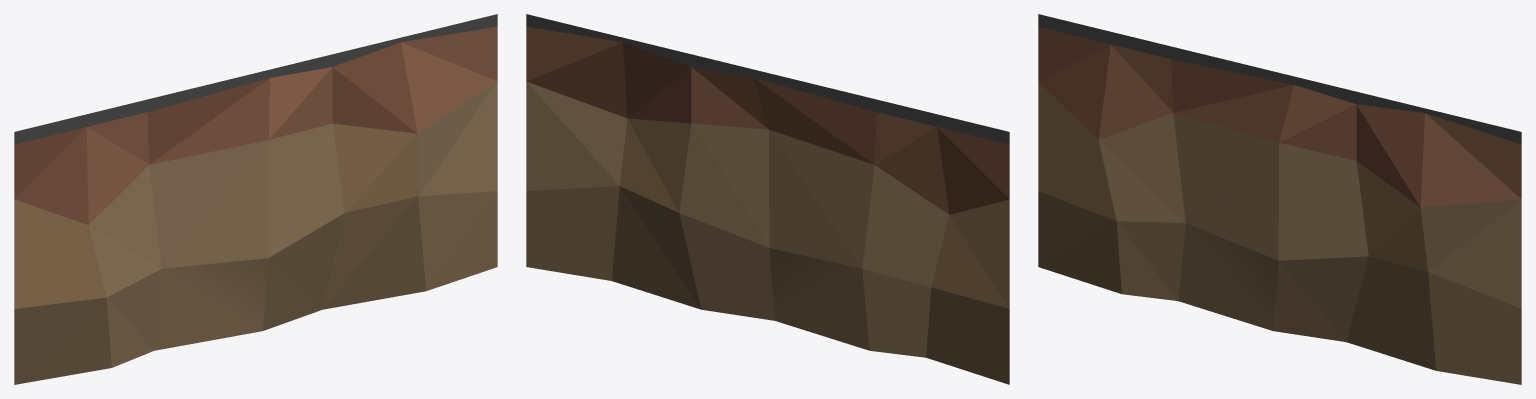
File: Thick_12_Asphalt.fbx
3 renders of one model, left to right at view 1: azimuth 30°, elevation 25°; view 2: azimuth 150°, elevation 25°; view 3: azimuth 330°, elevation 25°, orthographic.
Parts seen in each view (by area): view 1: Thick_12_Asphalt; view 2: Thick_12_Asphalt; view 3: Thick_12_Asphalt.
Part boxes in pixels (x1=…): Thick_12_Asphalt: x1=14, y1=14, x2=497, y2=384; Thick_12_Asphalt: x1=526, y1=14, x2=1009, y2=384; Thick_12_Asphalt: x1=1038, y1=14, x2=1521, y2=384.
Size of the model in its own units: 1200 by 600 by 45.
